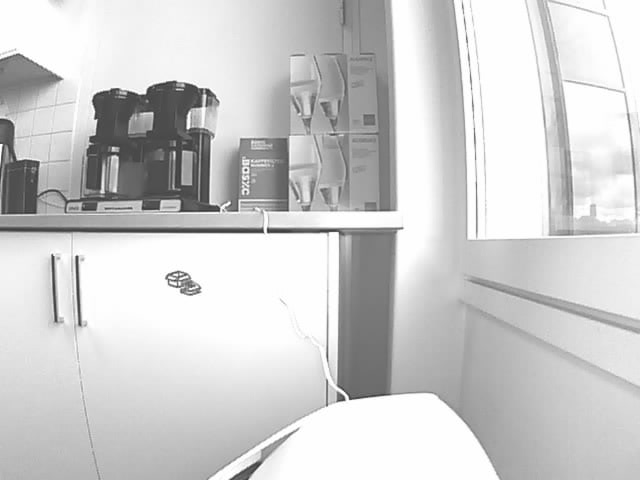empty coffee: (81, 140, 140, 202)
not empty coffee: (142, 139, 202, 201)
